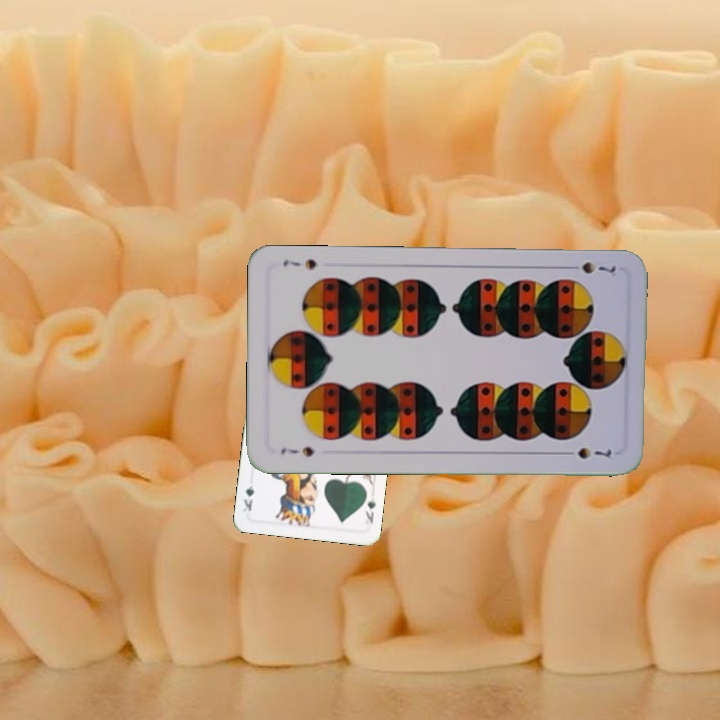GK: (361, 494, 378, 526)
S7: (562, 258, 618, 277), (277, 442, 317, 459)
